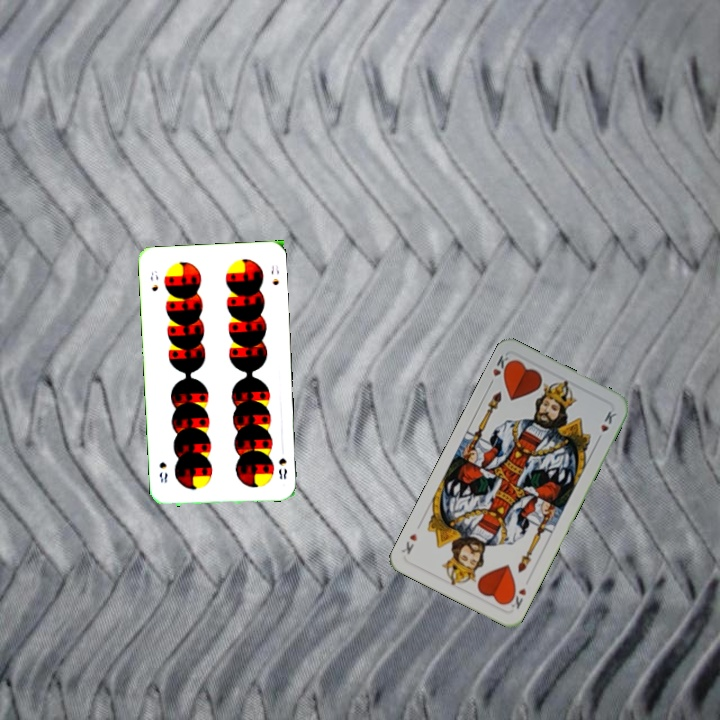HK: (485, 351, 515, 389), (503, 584, 529, 612)
S8: (274, 454, 290, 482), (146, 267, 161, 294)
